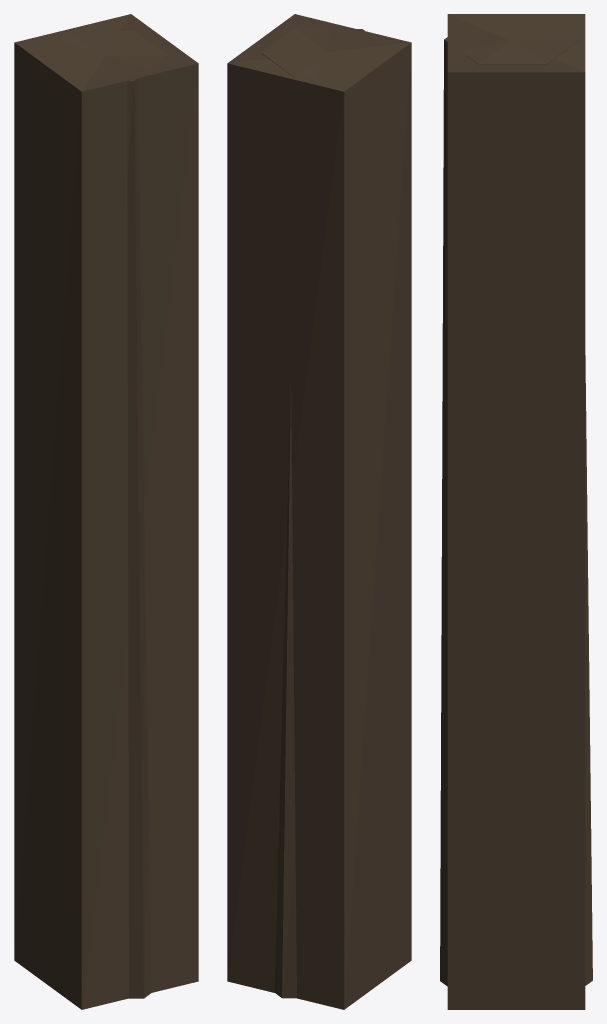
Rendered from fence-post.glb.
3 renders of one model, left to right at view 1: azimuth 30°, elevation 25°; view 2: azimuth 150°, elevation 25°; view 3: azimuth 270°, elevation 25°, orthographic. The views are drawn at different scales.
Parts seen in each view (by area): view 1: lod1_post, lod0_post; view 2: lod1_post, lod0_post; view 3: lod1_post, lod0_post.
Boxes of the visible parts, x1=… form: lod1_post: x1=14, y1=14, x2=198, y2=1009; lod0_post: x1=57, y1=31, x2=167, y2=998; lod1_post: x1=227, y1=14, x2=411, y2=1009; lod0_post: x1=261, y1=28, x2=364, y2=998; lod1_post: x1=447, y1=14, x2=585, y2=1009; lod0_post: x1=440, y1=31, x2=592, y2=986.
Size of the model in its own units: 0.153 by 1.15 by 0.17.
